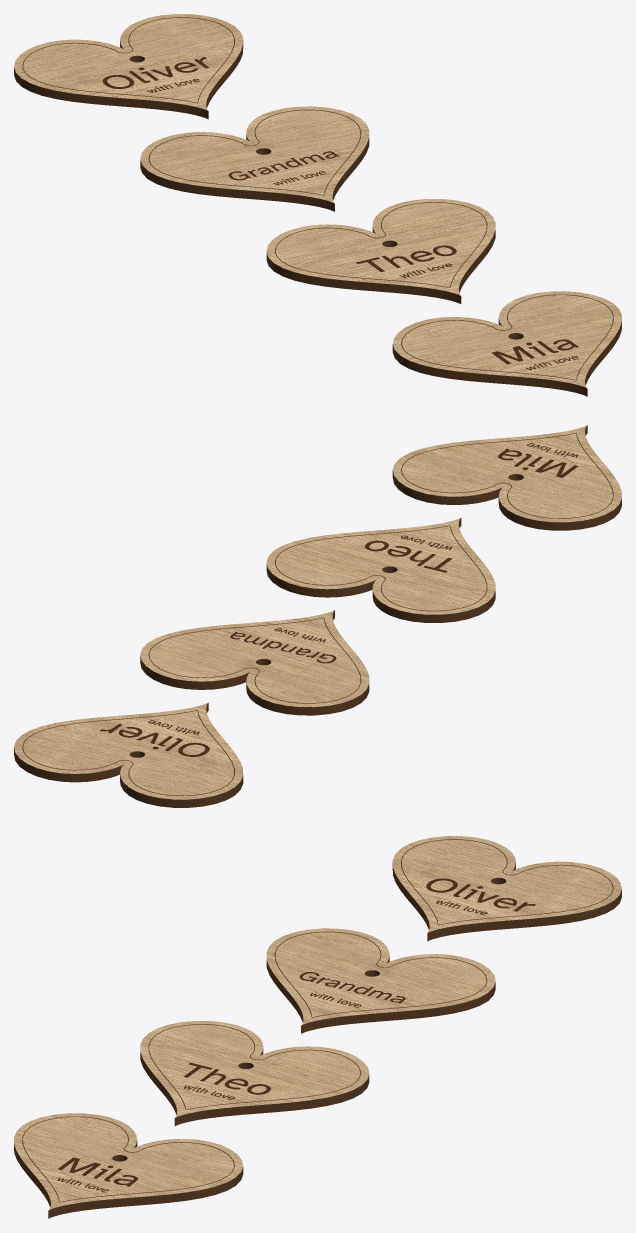
The model's file is shape-tags.glb.
3 renders of one model, top to bottom at view 1: azimuth 30°, elevation 25°; view 2: azimuth 150°, elevation 25°; view 3: azimuth 330°, elevation 25°, orthographic.
Visible parts, largest first — view 1: body2, body1, body0, body3, engrave3, engrave0, engrave1, engrave2, score0, score2, score1, score3; view 2: body2, body1, body0, body3, engrave3, engrave0, engrave1, score1, score0, score3, engrave2, score2; view 3: body2, body1, body0, body3, engrave3, engrave0, engrave1, score2, score0, score1, score3, engrave2.
Part boxes in pixels (x1=…): body2: x1=140, y1=106, x2=369, y2=211; body1: x1=266, y1=199, x2=495, y2=303; body0: x1=392, y1=291, x2=621, y2=396; body3: x1=14, y1=14, x2=243, y2=119; engrave3: x1=102, y1=57, x2=208, y2=92; engrave0: x1=491, y1=339, x2=578, y2=370; engrave1: x1=356, y1=245, x2=456, y2=277; engrave2: x1=228, y1=151, x2=339, y2=185; score0: x1=401, y1=294, x2=613, y2=380; score2: x1=148, y1=109, x2=361, y2=195; score1: x1=274, y1=202, x2=487, y2=287; score3: x1=22, y1=17, x2=234, y2=103; body2: x1=140, y1=610, x2=369, y2=715; body1: x1=266, y1=518, x2=495, y2=622; body0: x1=392, y1=425, x2=621, y2=530; body3: x1=14, y1=702, x2=243, y2=807; engrave3: x1=100, y1=720, x2=209, y2=756; engrave0: x1=498, y1=443, x2=578, y2=477; engrave1: x1=365, y1=535, x2=451, y2=572; score1: x1=275, y1=525, x2=487, y2=611; score0: x1=401, y1=432, x2=613, y2=518; score3: x1=22, y1=710, x2=234, y2=795; engrave2: x1=230, y1=628, x2=336, y2=663; score2: x1=148, y1=617, x2=361, y2=703; body2: x1=266, y1=928, x2=495, y2=1033; body1: x1=140, y1=1021, x2=369, y2=1125; body0: x1=14, y1=1113, x2=243, y2=1218; body3: x1=392, y1=836, x2=621, y2=941; engrave3: x1=426, y1=878, x2=536, y2=914; engrave0: x1=57, y1=1157, x2=137, y2=1192; engrave1: x1=183, y1=1062, x2=270, y2=1099; score2: x1=274, y1=931, x2=487, y2=1017; score0: x1=22, y1=1116, x2=234, y2=1202; score1: x1=148, y1=1024, x2=361, y2=1109; score3: x1=401, y1=839, x2=613, y2=925; engrave2: x1=299, y1=972, x2=405, y2=1007.
Size of the model in its own units: 0.08 by 0.00312 by 0.318.
4 materials, 1 textured.
